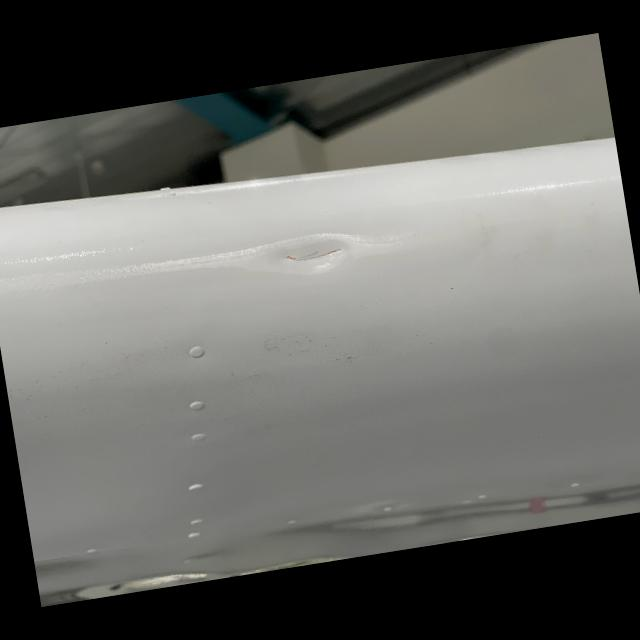dent: (240, 220, 385, 285)
